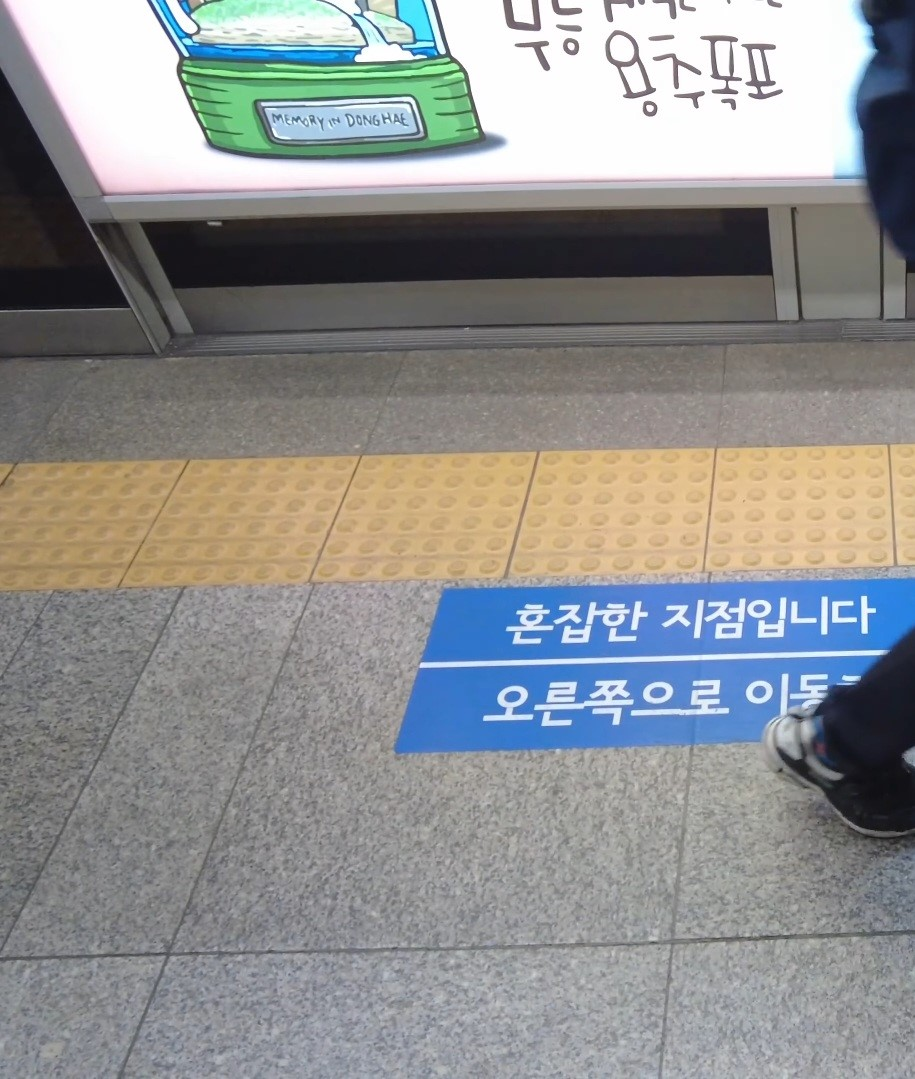warningBlock: (325, 461, 513, 587), (706, 448, 883, 577), (150, 465, 319, 597), (509, 453, 683, 577), (4, 464, 143, 580)
